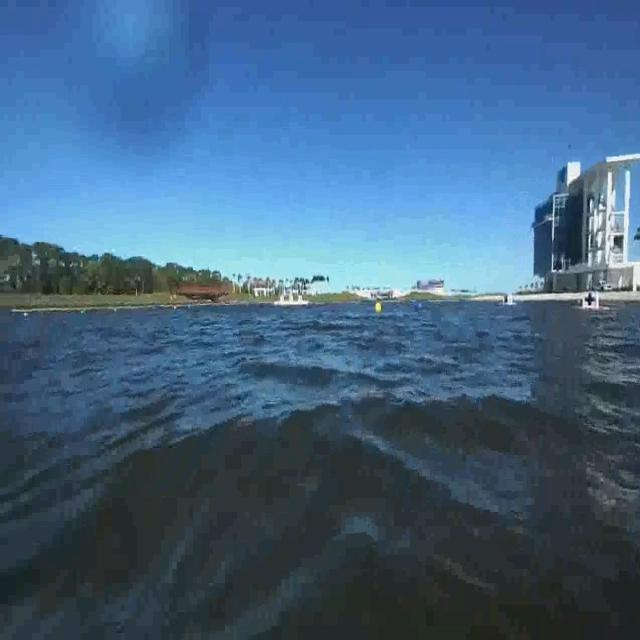blue-buoy: (415, 298, 425, 316)
yellow-buoy: (376, 302, 384, 316)
